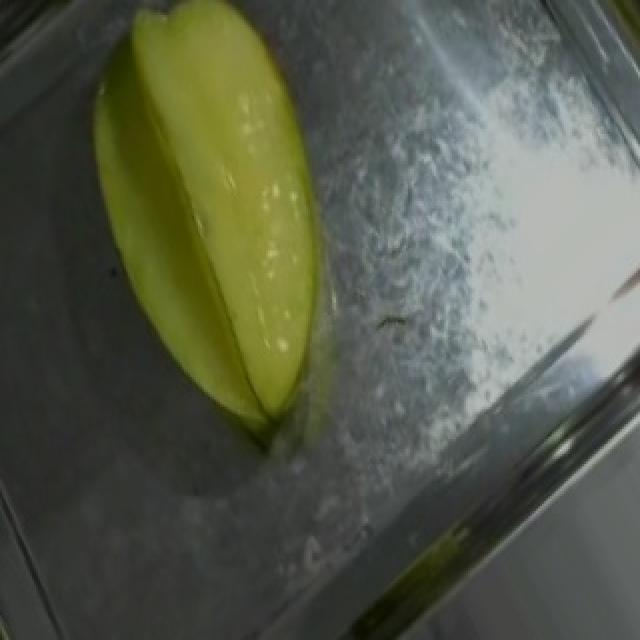fruit: (64, 0, 392, 335)
